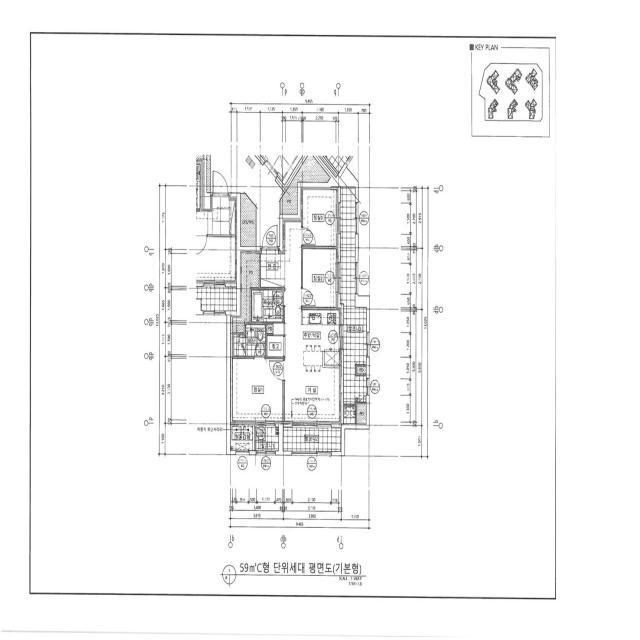space_balconi: (340, 187, 366, 424), (283, 427, 341, 451), (256, 426, 278, 451)
space_bedroom: (231, 358, 283, 423), (301, 187, 338, 246), (303, 249, 338, 307)
space_elevator_hall: (207, 155, 284, 246)
space_front: (260, 249, 285, 287)
space_kitchen: (301, 310, 341, 368)
space_living_room: (284, 220, 341, 424)
space_other: (280, 156, 330, 214), (231, 252, 259, 332), (241, 194, 256, 246), (267, 323, 285, 357), (357, 404, 366, 424), (357, 367, 366, 374), (267, 324, 273, 334)
space_outdoor_room: (231, 425, 254, 450)
space_toilet: (252, 290, 283, 322), (234, 325, 265, 356)
